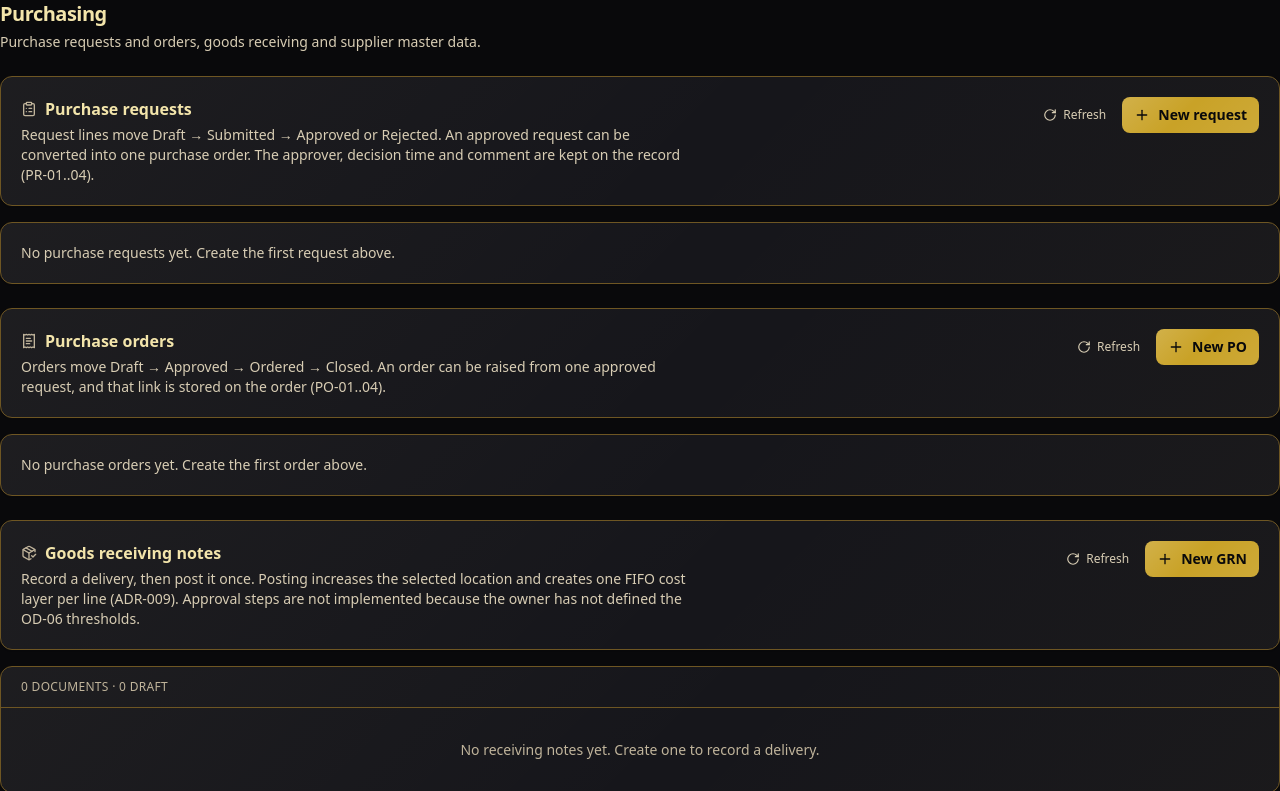
Scenario: Purchasing — purchase requests › creates a draft request with normalized values
The width and height of the screenshot is (1280, 791).
Expected: the text "No purchase requests yet. Create the first request above." is shown, [21,243,395,262]
Click the button "New request": click(1191, 115) [1122,97,1259,133]
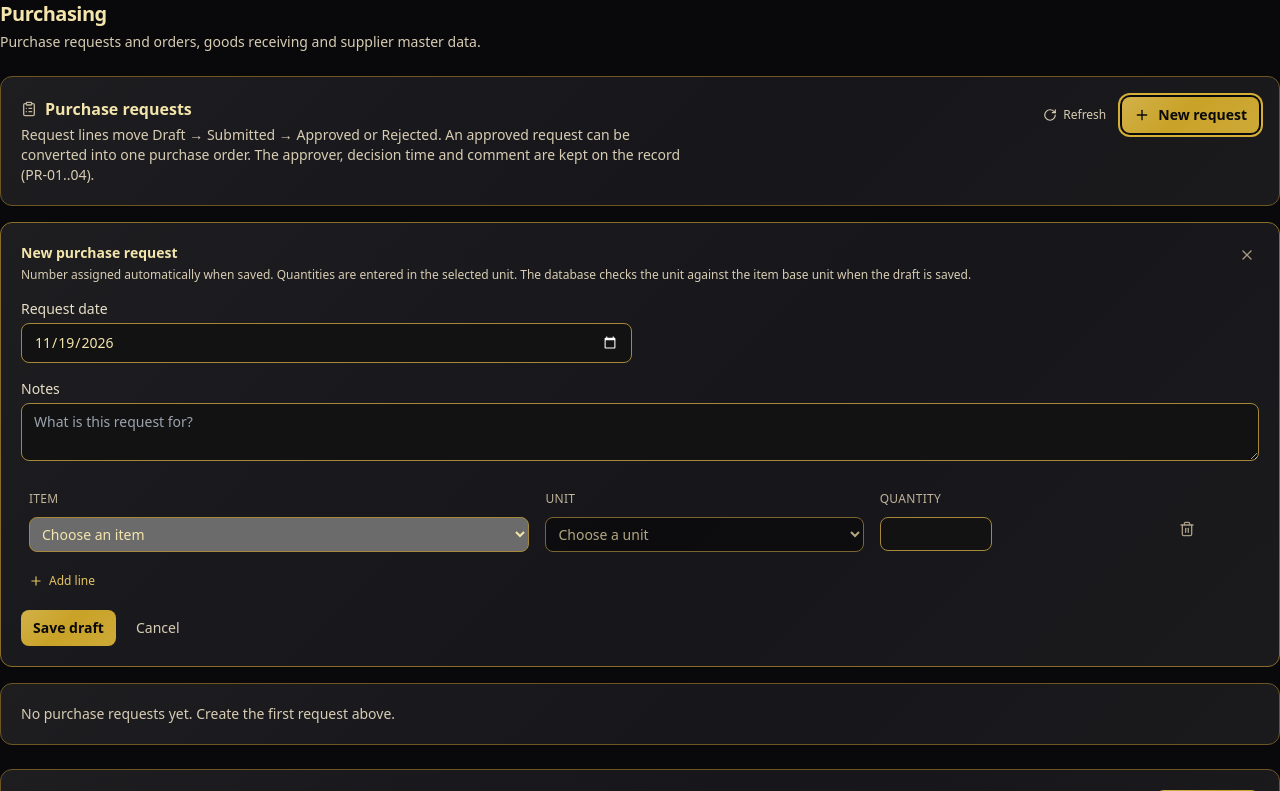
Expected: the text "Number assigned automatically when saved" is shown, [21,266,517,283]
Select "TOMATO — Tomato, fresh" in the dropdown named "Item for request line 1": (279, 534) [29,517,529,552]
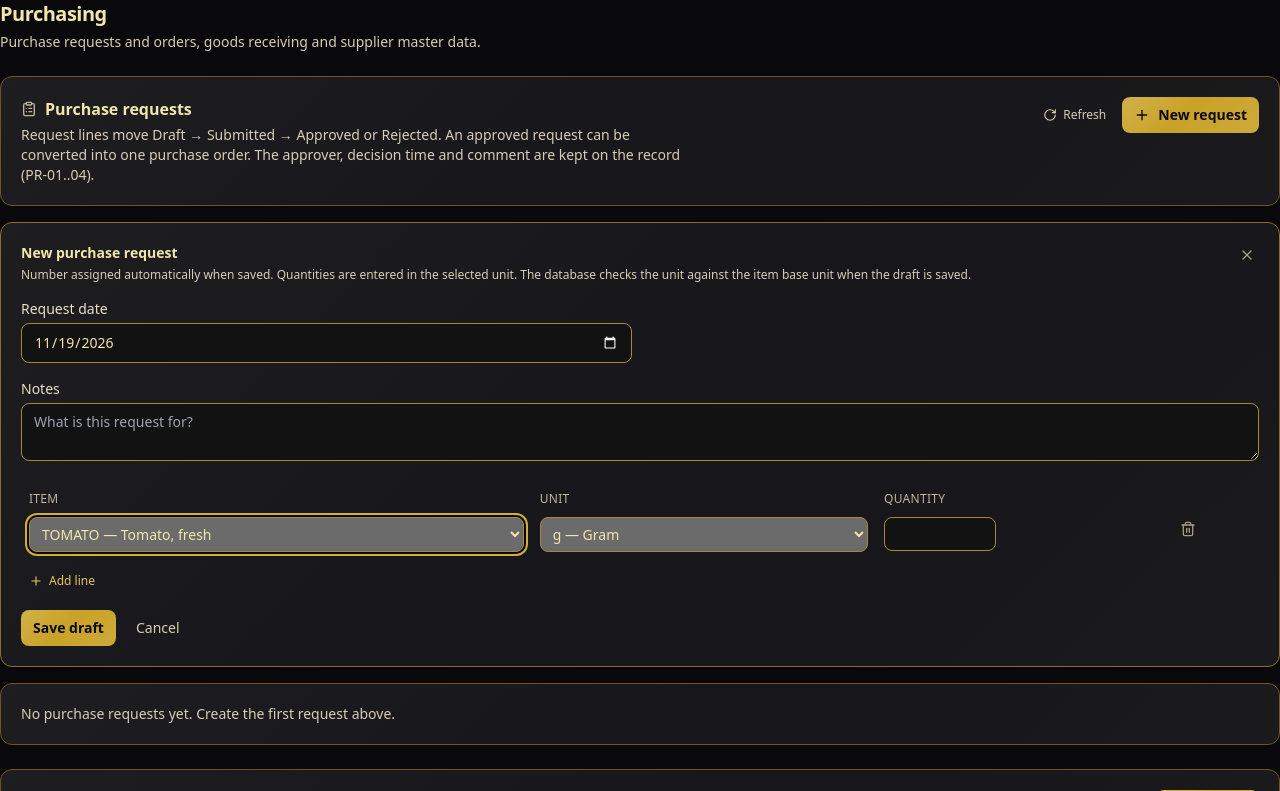
Select "kg — Kilogram" in the dropdown named "Unit for request line 1": (704, 534) [540,517,868,552]
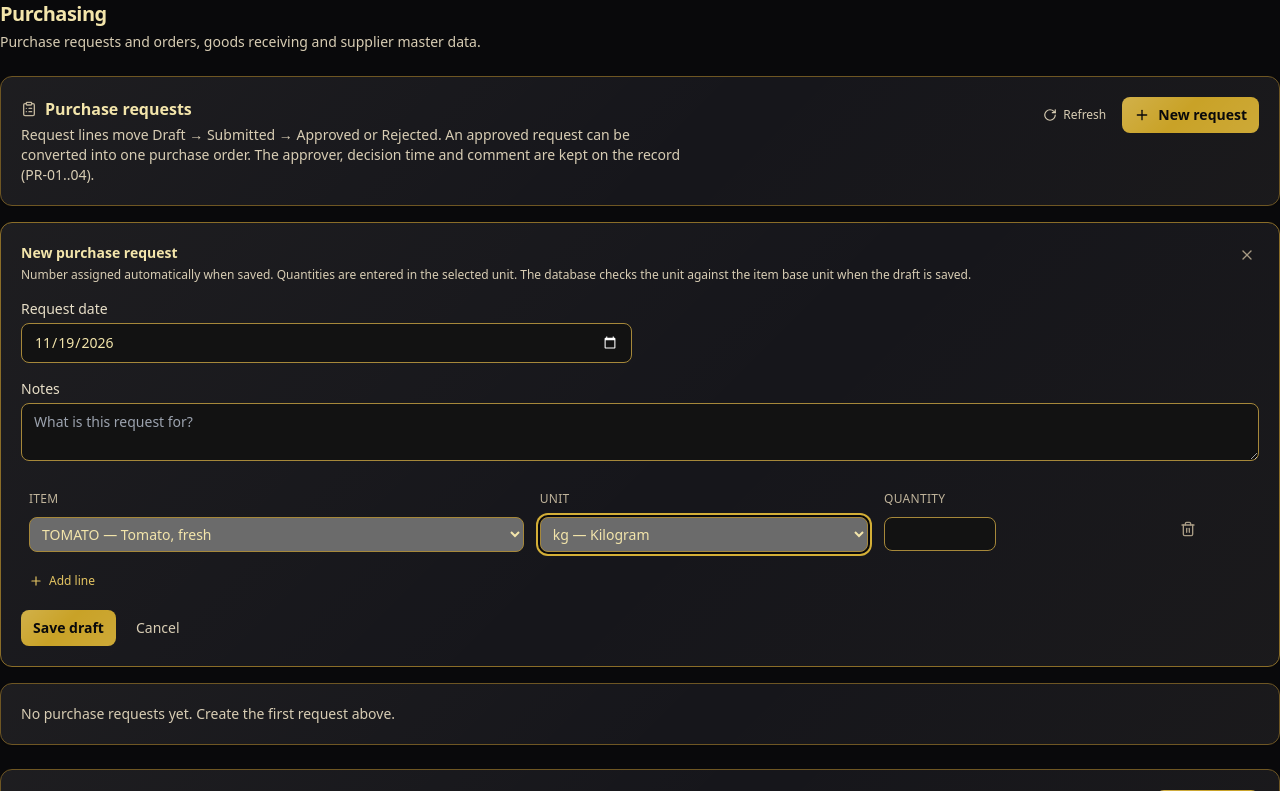
In the number field named "Quantity for request line 1": (940, 534) [884,517,996,551], type "2"
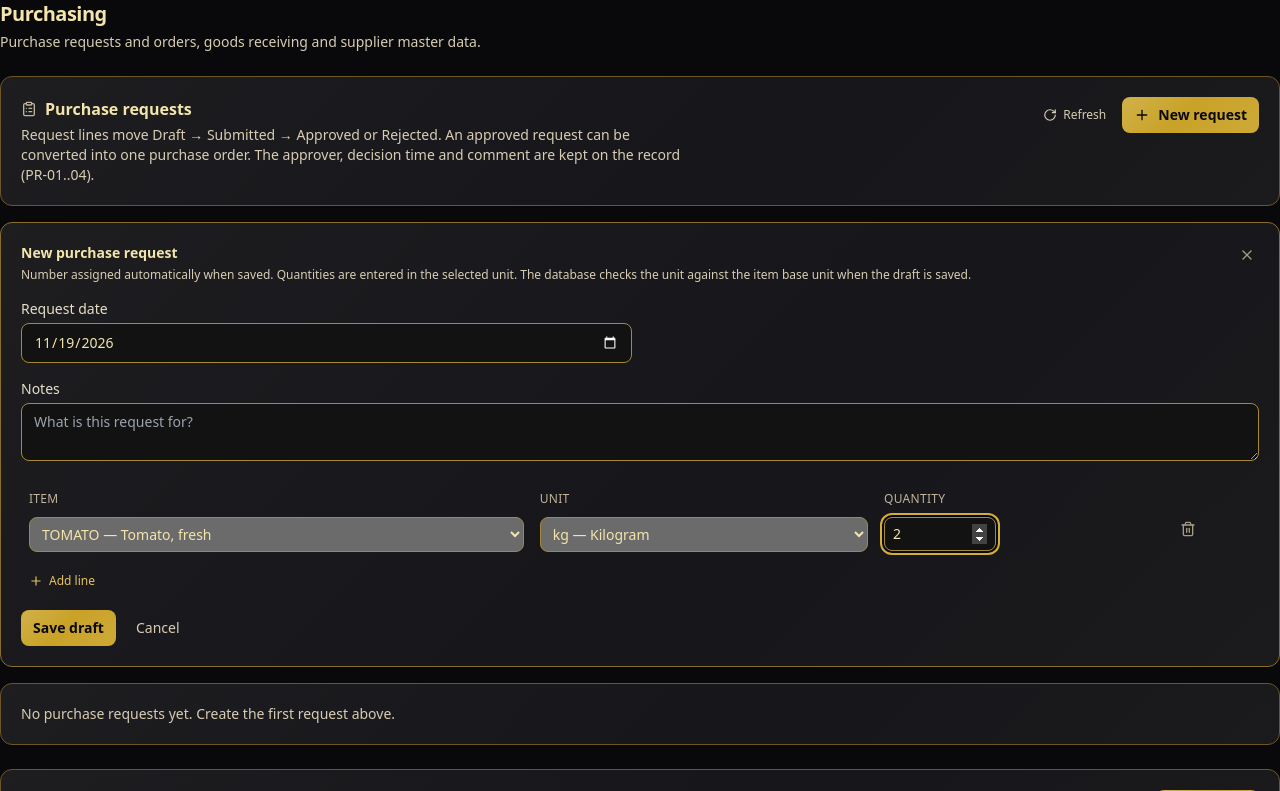
Click the button "Save draft": click(68, 628) [21,610,116,646]
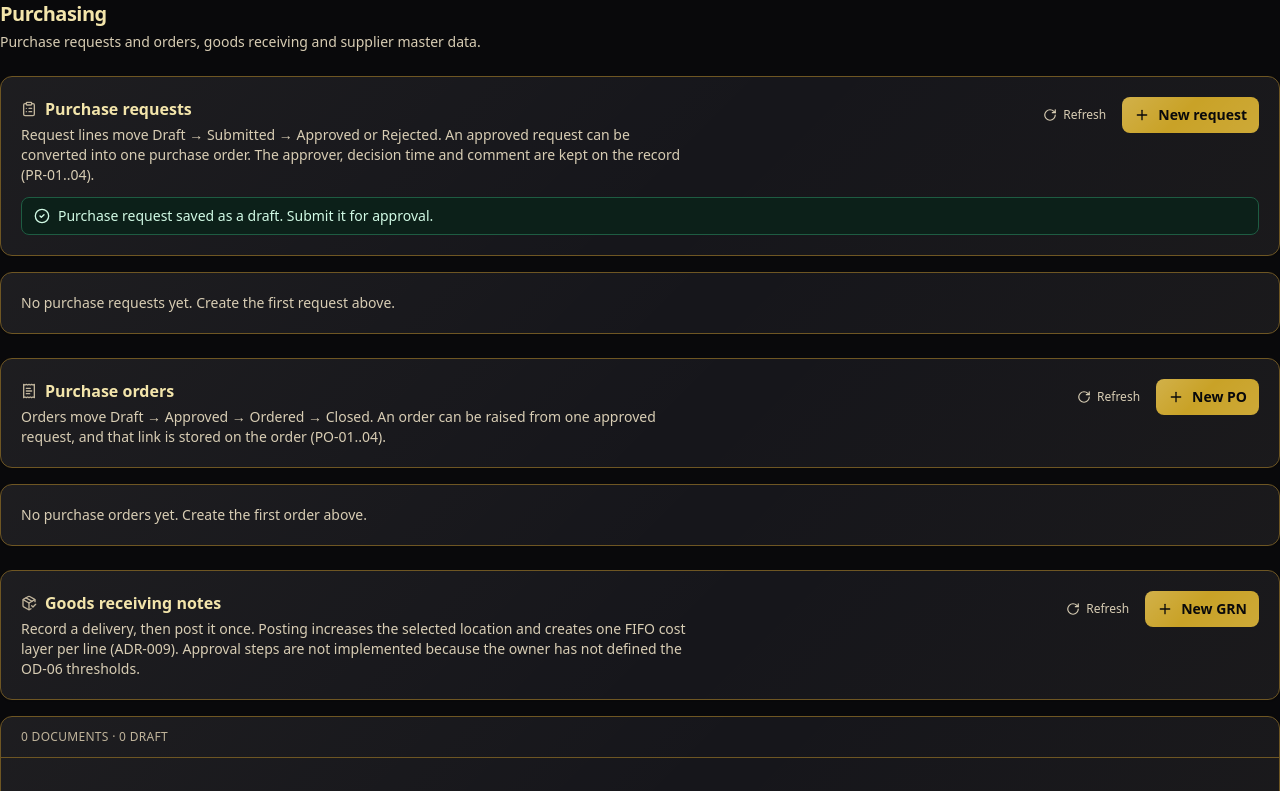
Expected: the message shows "saved as a draft", [58,206,433,225]
